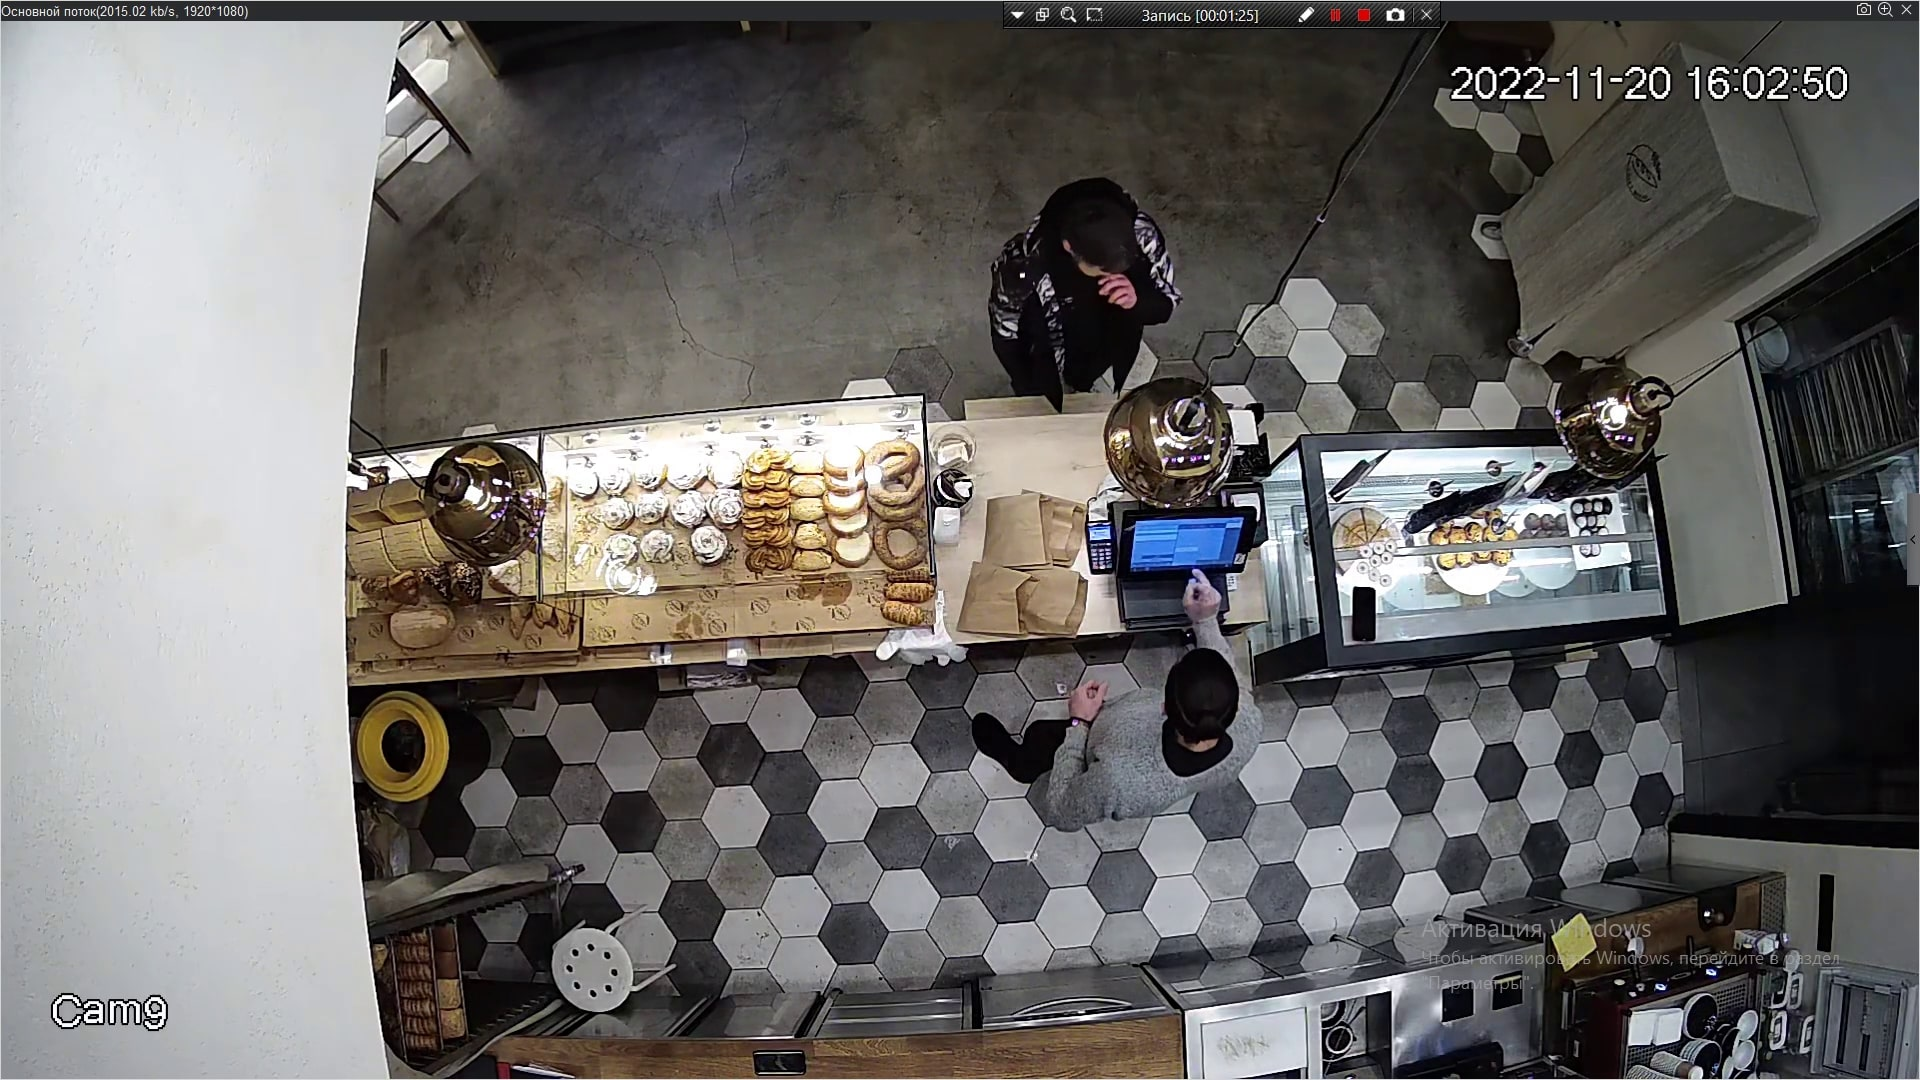barcounter: (359, 414, 1698, 659)
pack: (1018, 564, 1096, 641), (955, 564, 1030, 636), (980, 493, 1059, 559)
person: (973, 171, 1187, 407), (1033, 679, 1277, 821)
